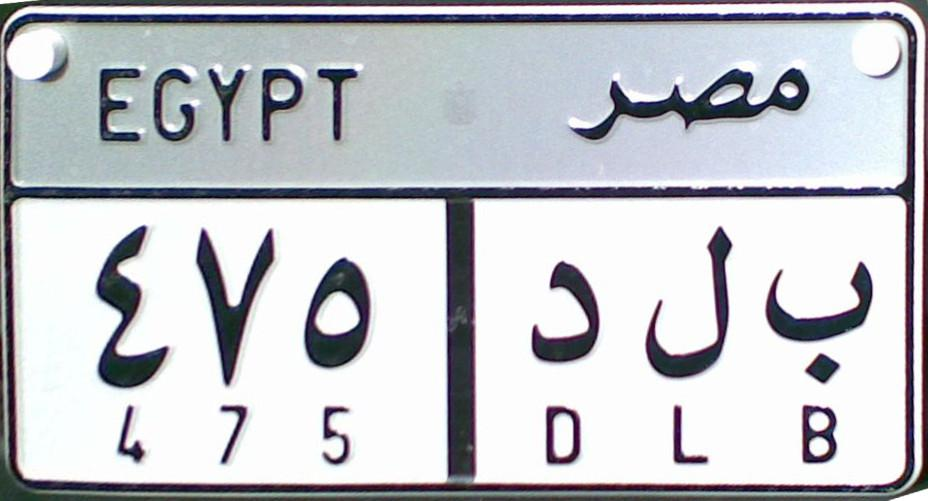4: (75, 215, 178, 402)
5: (288, 249, 408, 378)
7: (185, 211, 280, 393)
baa: (760, 235, 886, 386)
daal: (509, 231, 616, 374)
laam: (644, 226, 743, 389)
